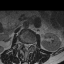CCS_normal: (25, 41, 28, 52)
LFS_normal: (30, 40, 33, 48)
LLS_normal: (28, 40, 30, 49)
RFS_stenosis: (21, 40, 23, 47)
RLS_normal: (23, 41, 25, 49)
